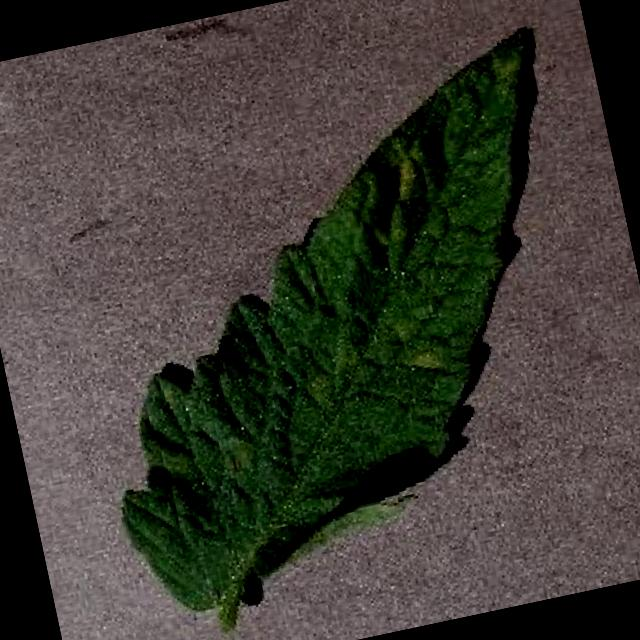leaf mold: (122, 24, 532, 625)
